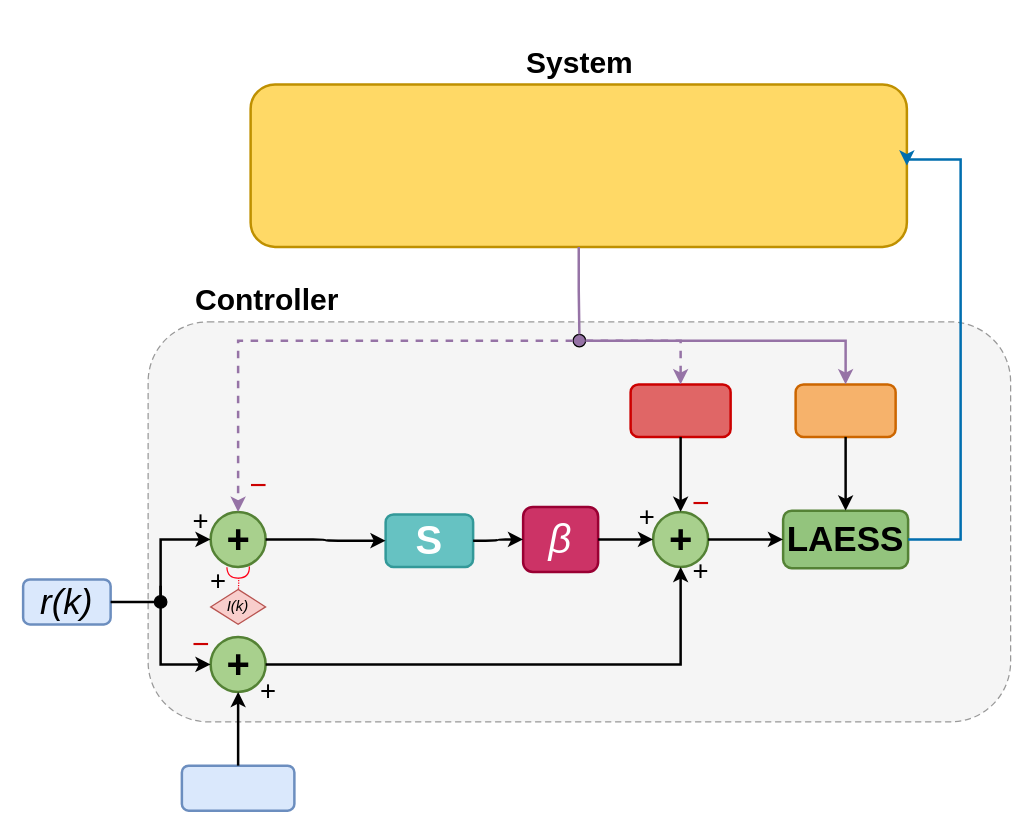
Image size: 1033x833. Some labels were removed from this diagram. Here are the shapes that lost their labels. From the top down, the box of each, then its label:
(249, 82, 908, 248): x(k+1) = x(k) + τ[ f(x(k)) + g(x(k)) ũ(k) ], x(1) = x 1
(629, 382, 731, 438): f(x)
(794, 382, 896, 438): g(x)
(180, 764, 295, 811): r(k+1)
